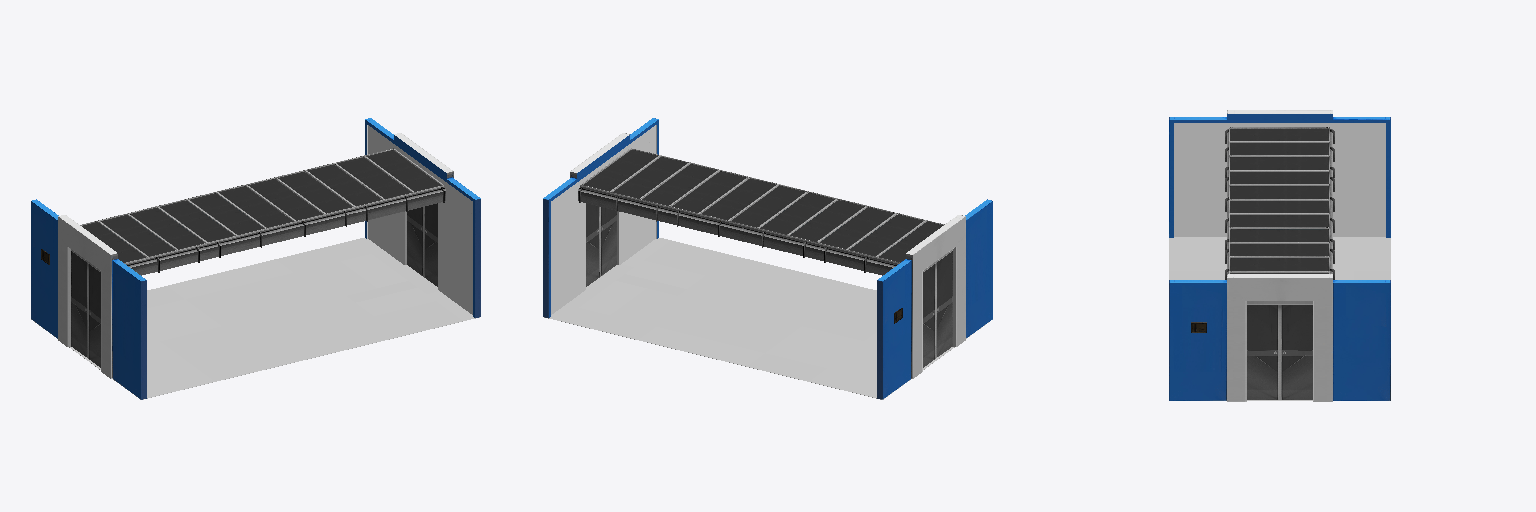
3 renders of one model, left to right at view 1: azimuth 30°, elevation 25°; view 2: azimuth 150°, elevation 25°; view 3: azimuth 270°, elevation 25°, orthographic.
Visible parts, largest first — view 1: set7G1800; view 2: set7G1800; view 3: set7G1800.
Part boxes in pixels (x1,y1,x2,y2): set7G1800: (31, 118, 480, 399); set7G1800: (543, 118, 992, 399); set7G1800: (1169, 110, 1390, 401).
Size of the model in its own units: 7.52 by 2.6 by 4.2.
1 materials, 1 textured.